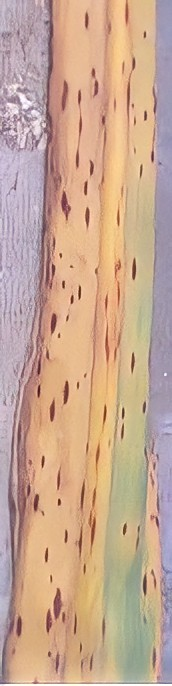Bercak Coklat: (54, 189, 75, 225), (56, 378, 74, 407), (126, 253, 141, 286), (78, 203, 96, 230), (12, 611, 27, 643), (52, 583, 63, 624), (42, 607, 55, 636), (59, 75, 69, 112), (78, 179, 94, 202), (47, 396, 59, 426), (126, 349, 139, 376), (75, 113, 89, 138), (47, 309, 60, 333), (90, 78, 102, 102), (53, 468, 65, 491), (40, 543, 52, 566), (73, 88, 86, 109), (58, 528, 73, 546), (81, 9, 93, 31), (137, 396, 149, 418), (85, 155, 96, 178), (116, 402, 128, 423), (117, 520, 131, 538), (140, 571, 149, 598), (31, 492, 43, 512), (37, 453, 50, 471), (52, 495, 66, 510), (86, 66, 100, 80), (118, 424, 129, 441), (140, 25, 150, 43), (138, 108, 150, 122)
